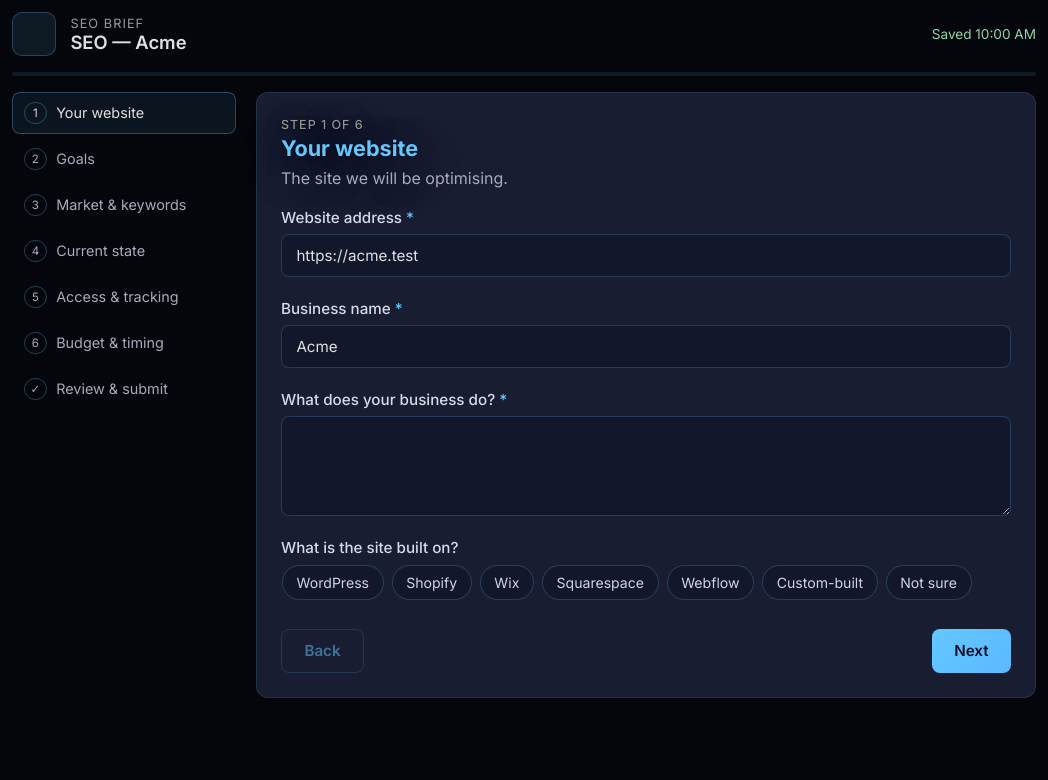
Test: BriefWizard › stops retrying a save the server marks non-retryable
In the text box labelled "What does your business do? *": (646, 466) [281,416,1011,516], type "Uniforms"
Wait 121000 ms
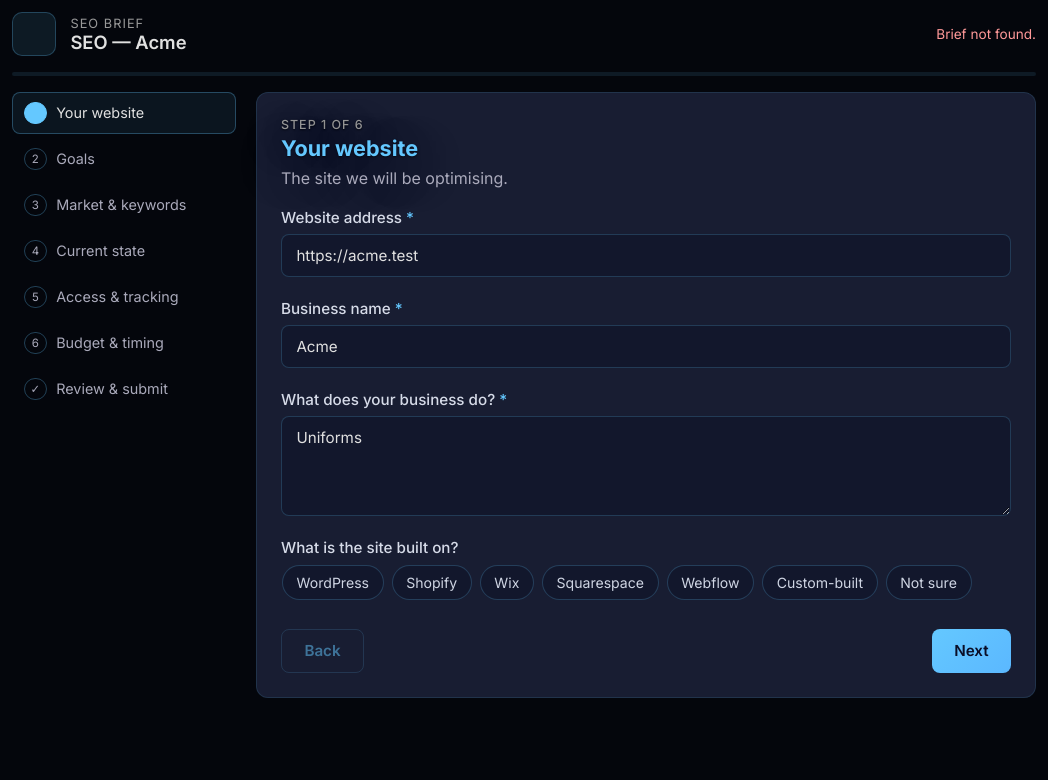
Result: the message reads "Brief not found." at [936,26,1036,42]
